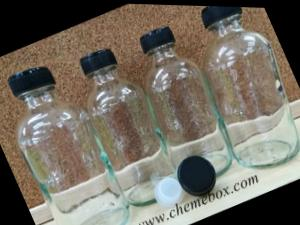glass: (0, 50, 139, 225), (175, 5, 300, 181), (64, 37, 186, 215), (122, 16, 242, 190)
